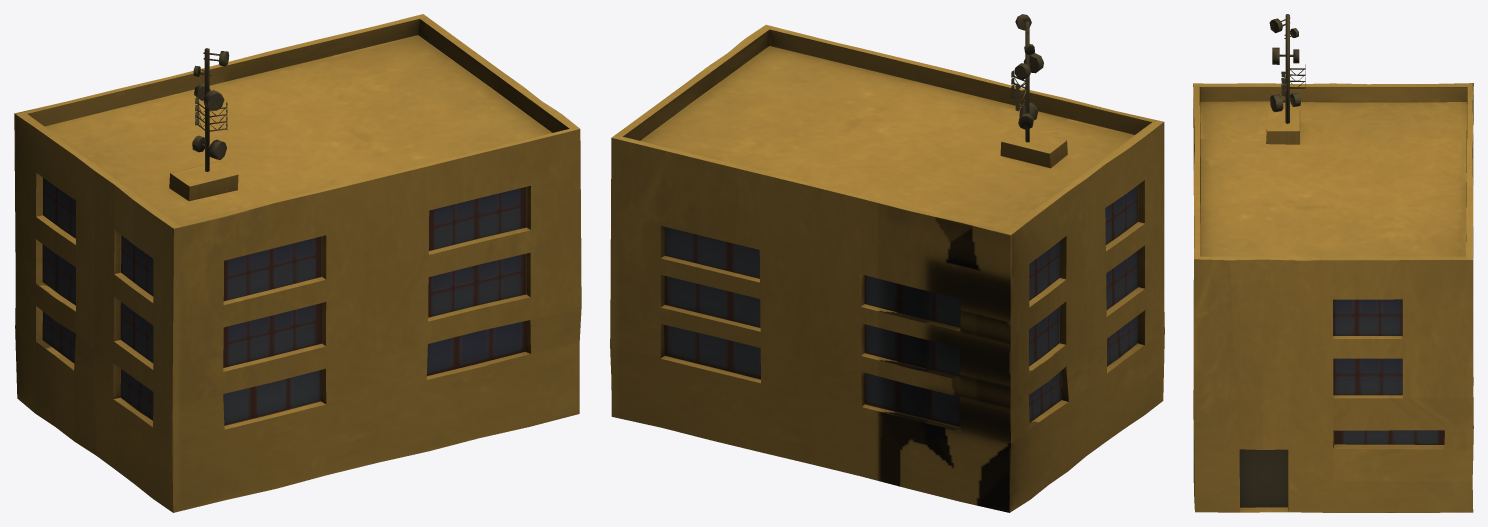
File: building_2.fbx
3 views of the same model, side by side, from view 1: azimuth 30°, elevation 25°; view 2: azimuth 150°, elevation 25°; view 3: azimuth 270°, elevation 25° (orthographic). The views are drawn at different scales.
Parts seen in each view (by area): view 1: Antenna.001; view 2: Antenna.001; view 3: Antenna.001.
Part boxes in pixels (x1=…): Antenna.001: x1=14, y1=14, x2=581, y2=512; Antenna.001: x1=610, y1=14, x2=1164, y2=512; Antenna.001: x1=1193, y1=14, x2=1473, y2=512.
Bounding box in the file's own units: 2.01 × 2.85 × 3.02.
1 material, 1 textured.
